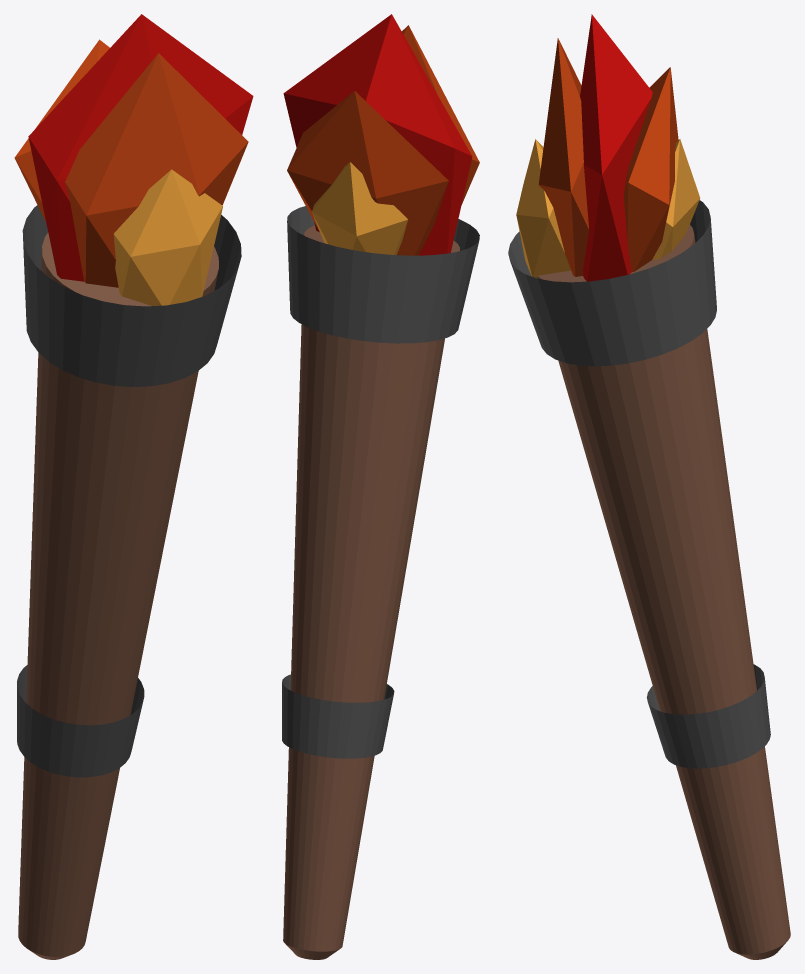
Rendered from Fackel.glb.
The picture shows the model from 3 angles, left to right: view 1: azimuth 30°, elevation 25°; view 2: azimuth 150°, elevation 25°; view 3: azimuth 270°, elevation 25°; orthographic projection. The views are drawn at different scales.
Parts seen in each view (by area): view 1: Cylinder, Icosphere.001, Cylinder.002, Icosphere, Icosphere.002, Cylinder.001, Icosphere.003; view 2: Cylinder, Cylinder.002, Icosphere, Icosphere.003, Cylinder.001, Icosphere.004, Icosphere.001; view 3: Cylinder, Cylinder.002, Icosphere, Icosphere.001, Icosphere.003, Cylinder.001, Icosphere.002, Icosphere.004.
Part boxes in pixels (box(x1,y1,x2,y2)): Cylinder: box(18, 232, 218, 959); Icosphere.001: box(65, 53, 248, 287); Cylinder.002: box(22, 205, 241, 386); Icosphere: box(28, 14, 253, 281); Icosphere.002: box(113, 169, 222, 305); Cylinder.001: box(17, 665, 144, 777); Icosphere.003: box(14, 39, 109, 222); Cylinder: box(283, 225, 459, 959); Cylinder.002: box(287, 206, 479, 343); Icosphere: box(283, 14, 472, 255); Icosphere.003: box(287, 91, 448, 255); Cylinder.001: box(282, 674, 394, 758); Icosphere.004: box(312, 162, 407, 254); Icosphere.001: box(402, 25, 479, 204); Cylinder: box(537, 224, 790, 959); Cylinder.002: box(508, 200, 716, 366); Icosphere: box(580, 14, 652, 281); Icosphere.001: box(538, 38, 588, 276); Icosphere.003: box(623, 67, 678, 271); Cylinder.001: box(646, 664, 770, 768); Icosphere.002: box(516, 139, 570, 278); Icosphere.004: box(652, 139, 700, 259).
Bounding box in the file's own units: 0.9749 × 4.39 × 1.19.
